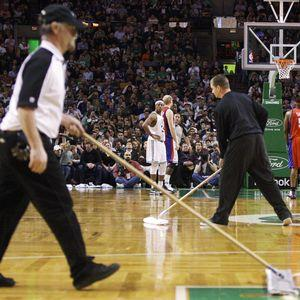person: (210, 75, 293, 228)
